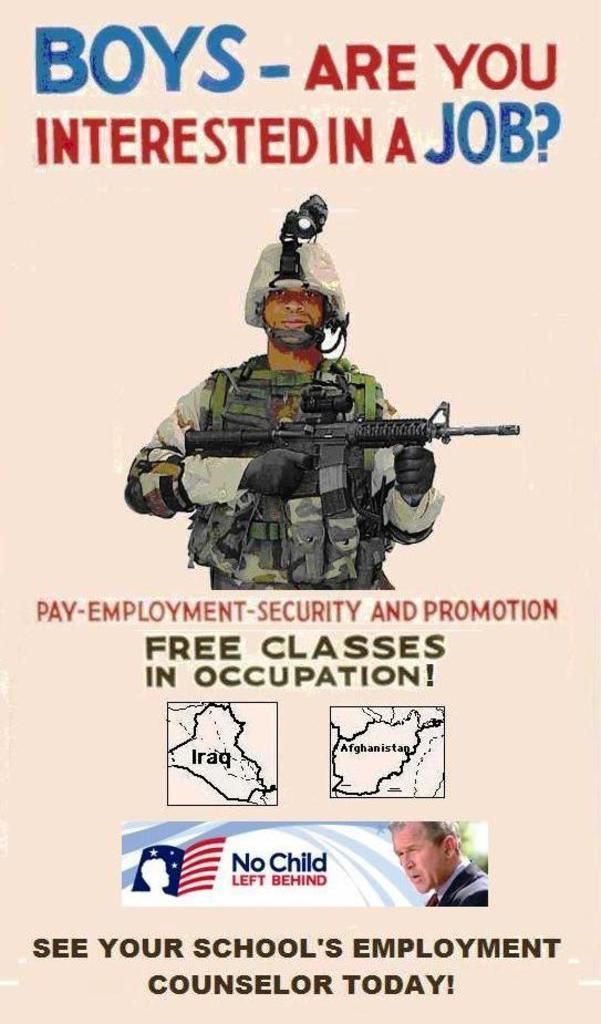non-violence: (121, 241, 442, 599)
weapon: (178, 404, 517, 515)
